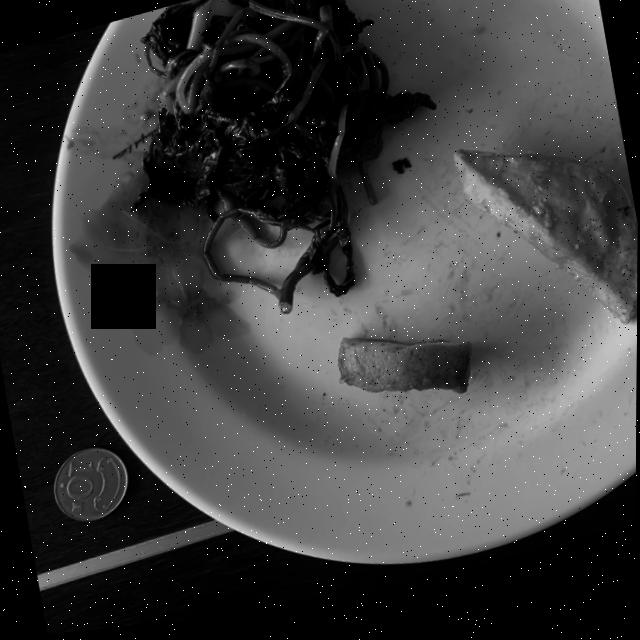coin: (54, 448, 129, 522)
creamy tofu: (338, 344, 472, 403)
sweet potato leaves: (132, 0, 435, 317)
